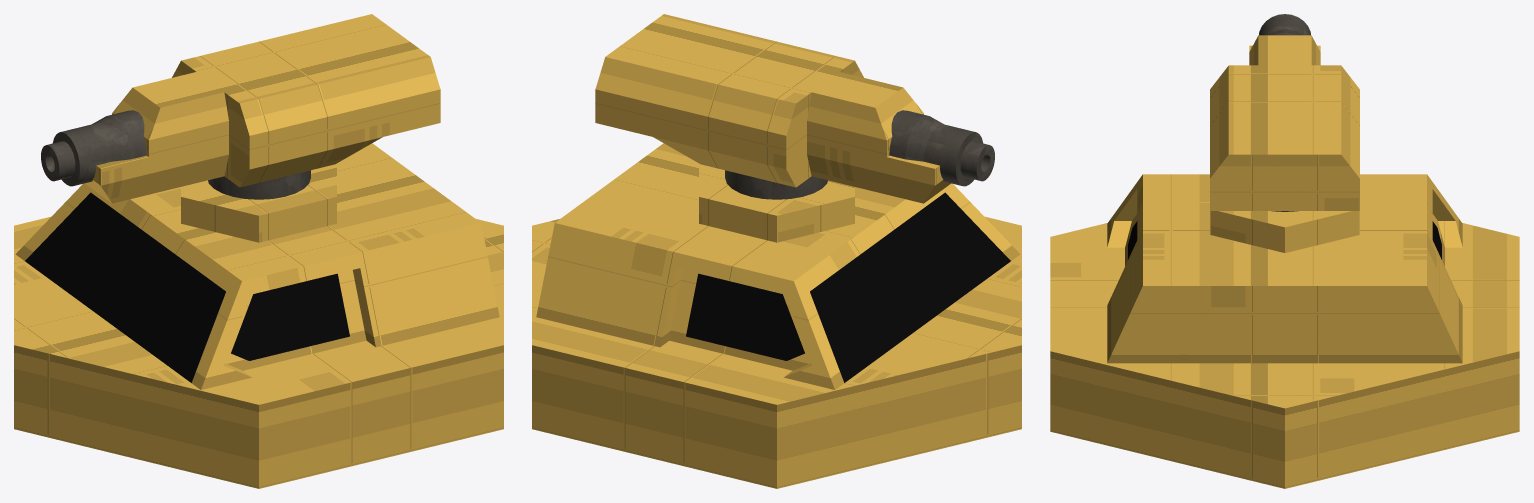
The model's file is hexTankFinalTurret.glb.
3 views of the same model, side by side, from view 1: azimuth 30°, elevation 25°; view 2: azimuth 150°, elevation 25°; view 3: azimuth 270°, elevation 25° (orthographic). The views are drawn at different scales.
Parts seen in each view (by area): view 1: mergedBlocks(Clone); view 2: mergedBlocks(Clone); view 3: mergedBlocks(Clone).
Part boxes in pixels (<box>): mergedBlocks(Clone): <box>14,14,503,488</box>; mergedBlocks(Clone): <box>532,14,1021,488</box>; mergedBlocks(Clone): <box>1050,14,1519,488</box>.
Size of the model in its own units: 1.52 by 0.89 by 1.32.
Materials: 3 (2 with a texture image).
